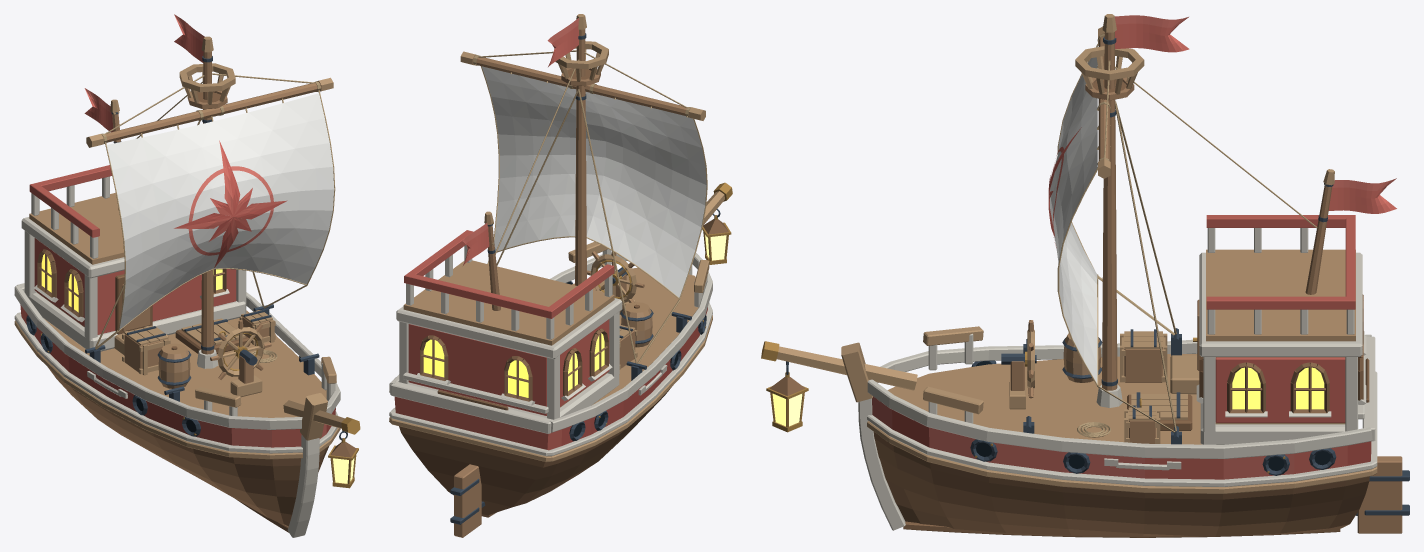
File: voyager-red-draco.glb
The picture shows the model from 3 angles, left to right: view 1: azimuth 30°, elevation 25°; view 2: azimuth 150°, elevation 25°; view 3: azimuth 270°, elevation 25°; orthographic projection. The views are drawn at different scales.
Parts seen in each view (by area): view 1: Hull, Sail, Wheel, Lantern, Flag_Main, Window_Glow, Flag_Stern, Lantern_Glow; view 2: Hull, Sail, Rudder, Window_Glow, Wheel, Flag_Main, Lantern, Flag_Stern, Lantern_Glow; view 3: Hull, Sail, Rudder, Flag_Main, Window_Glow, Flag_Stern, Lantern.
Boxes of the visible parts, bbox=[...] form: Hull: bbox=[14, 36, 360, 537]; Sail: bbox=[105, 90, 335, 331]; Wheel: bbox=[210, 320, 271, 379]; Lantern: bbox=[328, 430, 358, 488]; Flag_Main: bbox=[174, 14, 204, 62]; Window_Glow: bbox=[41, 254, 222, 312]; Flag_Stern: bbox=[84, 88, 113, 131]; Lantern_Glow: bbox=[333, 458, 354, 483]; Hull: bbox=[389, 14, 732, 517]; Sail: bbox=[474, 64, 707, 298]; Rudder: bbox=[450, 464, 481, 537]; Window_Glow: bbox=[423, 333, 604, 397]; Wheel: bbox=[587, 251, 644, 303]; Flag_Main: bbox=[547, 18, 578, 66]; Lantern: bbox=[702, 209, 731, 264]; Flag_Stern: bbox=[462, 223, 489, 265]; Lantern_Glow: bbox=[705, 235, 726, 260]; Hull: bbox=[761, 14, 1377, 537]; Sail: bbox=[1048, 43, 1110, 385]; Rudder: bbox=[1357, 456, 1409, 533]; Flag_Main: bbox=[1115, 15, 1189, 52]; Window_Glow: bbox=[1232, 367, 1324, 409]; Flag_Stern: bbox=[1328, 178, 1396, 213]; Lantern: bbox=[766, 361, 808, 432].
Size of the model in its own units: 5.4 by 9.37 by 10.6.
